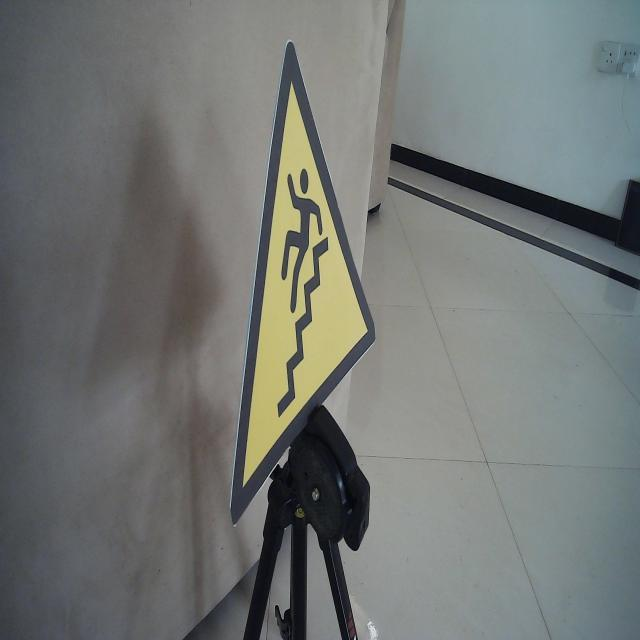stairs: (228, 36, 378, 531)
